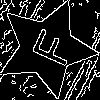F: (21, 23, 77, 70)
